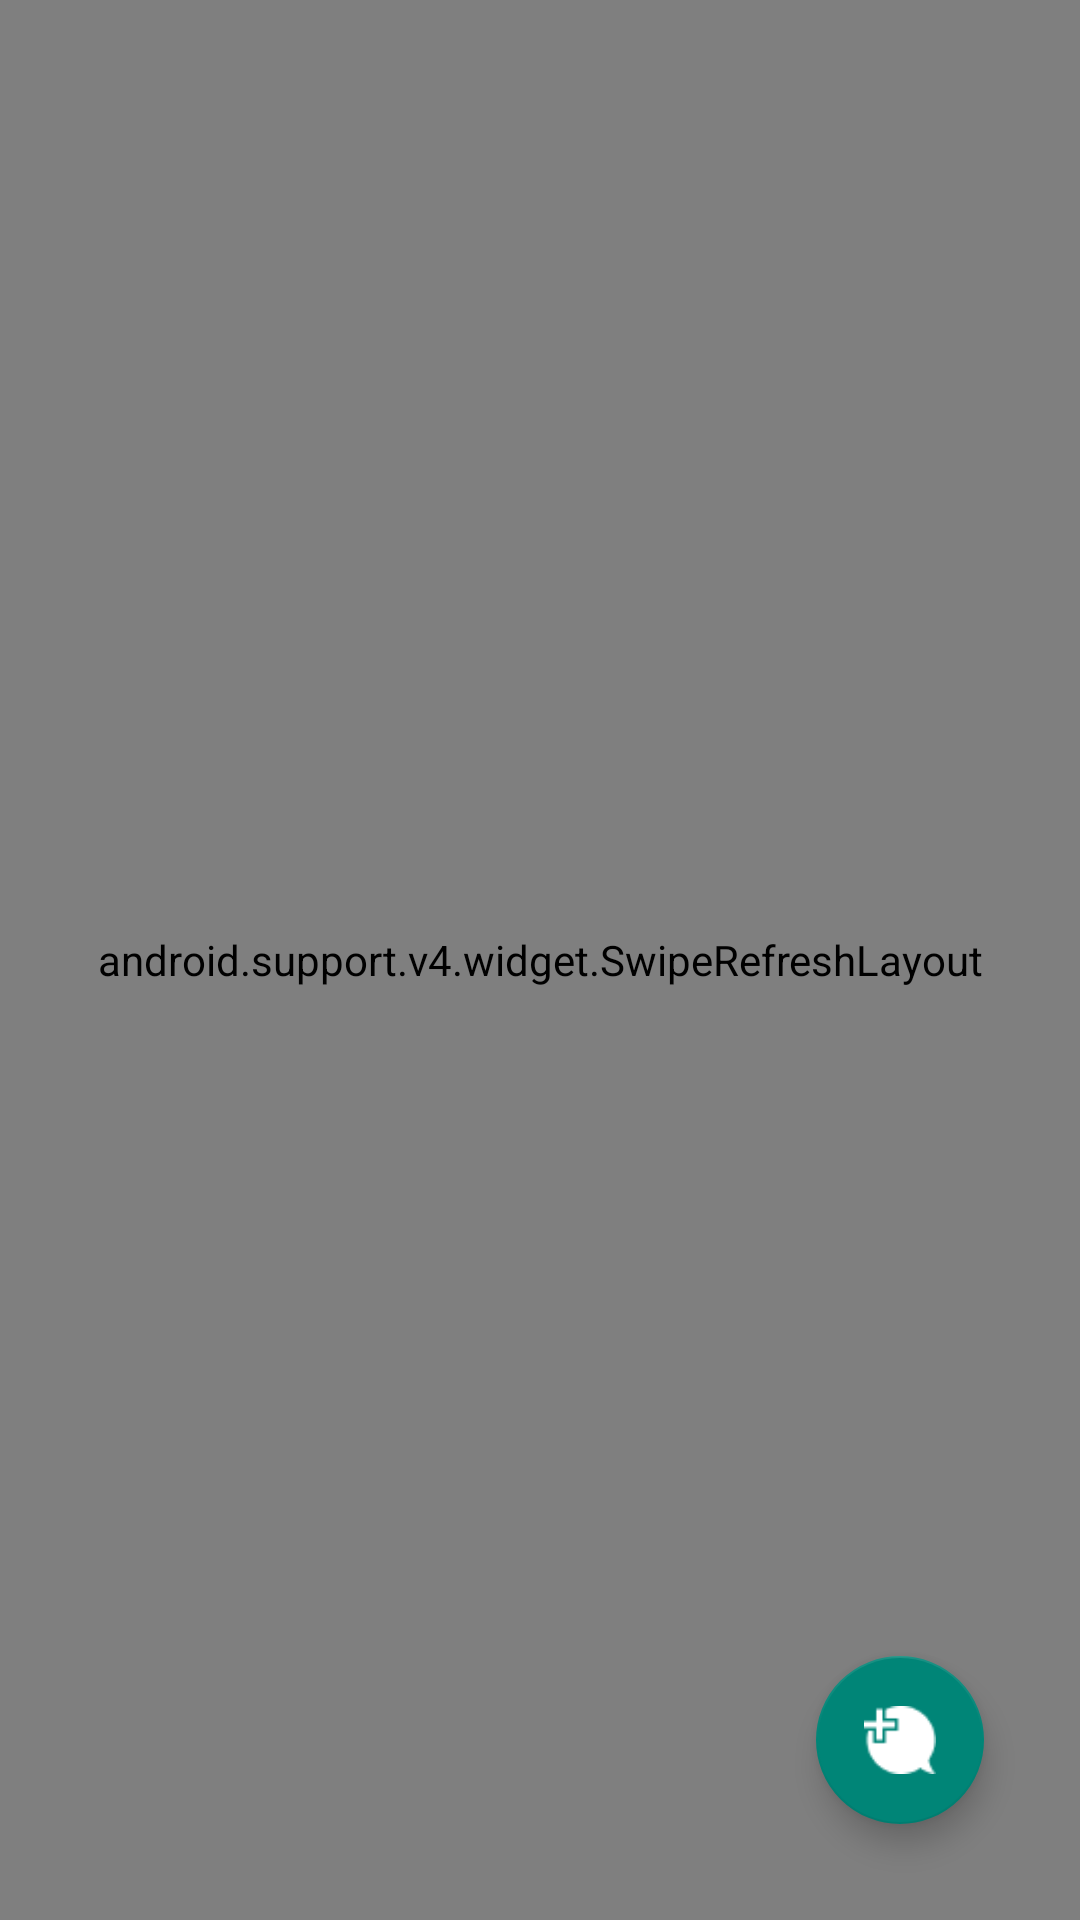

Icons on this 1080*1920 Android screen, each with the point to tap as (x,y):
chat: (900,1740)
